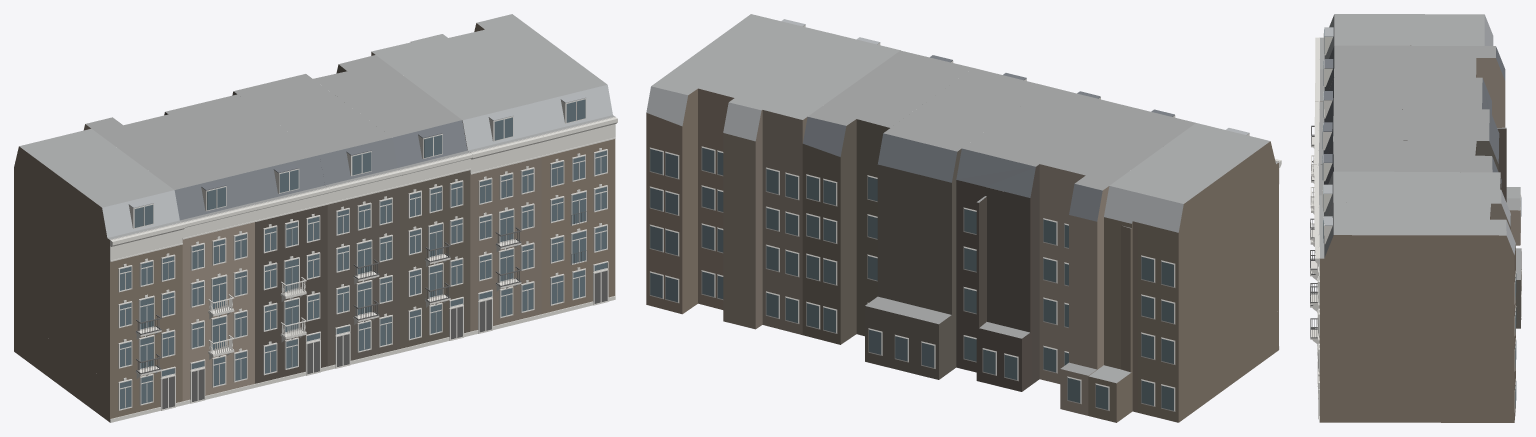
The model's file is chunk-face-witsen-1-19-r1.glb.
The picture shows the model from 3 angles, left to right: view 1: azimuth 30°, elevation 25°; view 2: azimuth 150°, elevation 25°; view 3: azimuth 270°, elevation 25°; orthographic projection. The views are drawn at different scales.
Visible parts, largest first — view 1: face-witsen-1-19-r1; view 2: face-witsen-1-19-r1; view 3: face-witsen-1-19-r1.
Part boxes in pixels (x1=…): face-witsen-1-19-r1: x1=14, y1=14, x2=617, y2=422; face-witsen-1-19-r1: x1=646, y1=14, x2=1281, y2=422; face-witsen-1-19-r1: x1=1310, y1=14, x2=1521, y2=422.
Size of the model in its own units: 44.07 by 17.39 by 17.82.
